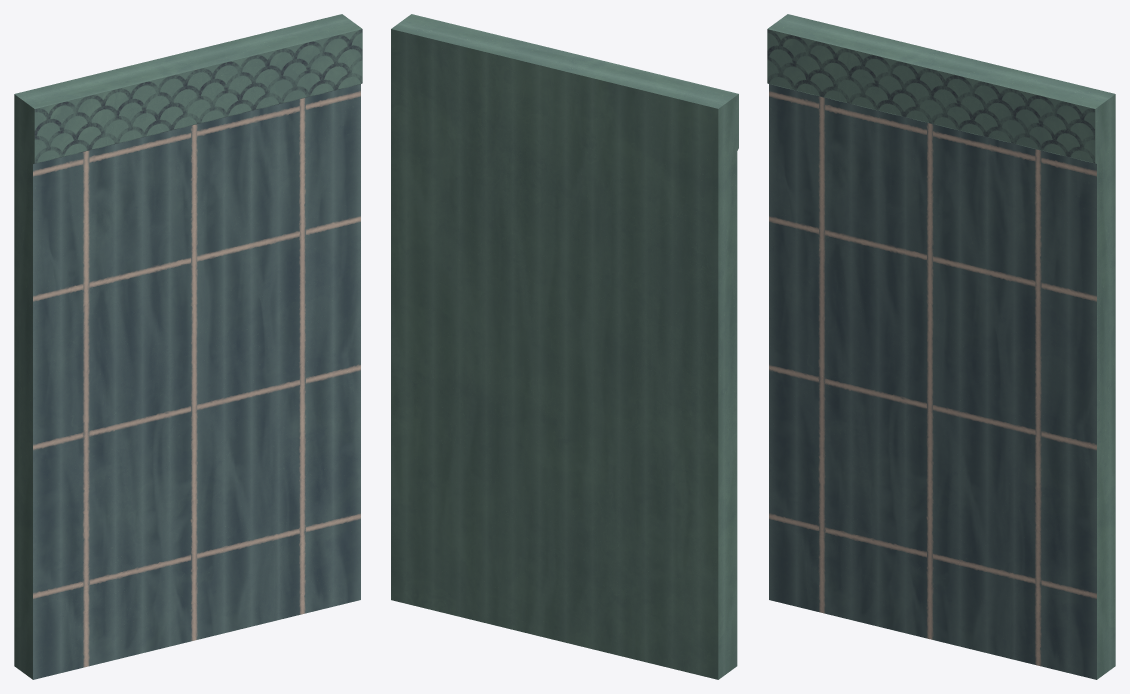
Rendered from WallPartOne.fbx.
3 views of the same model, side by side, from view 1: azimuth 30°, elevation 25°; view 2: azimuth 150°, elevation 25°; view 3: azimuth 330°, elevation 25° (orthographic).
Parts seen in each view (by area): view 1: WallPartOne; view 2: WallPartOne; view 3: WallPartOne.
Part boxes in pixels (x1,y1,x2,y2): WallPartOne: [14, 14, 362, 679]; WallPartOne: [391, 14, 738, 679]; WallPartOne: [767, 14, 1115, 679].
Bounding box in the file's own units: 300 × 500 × 32.58.
